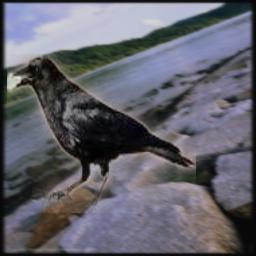Crow: (7, 54, 196, 213)
